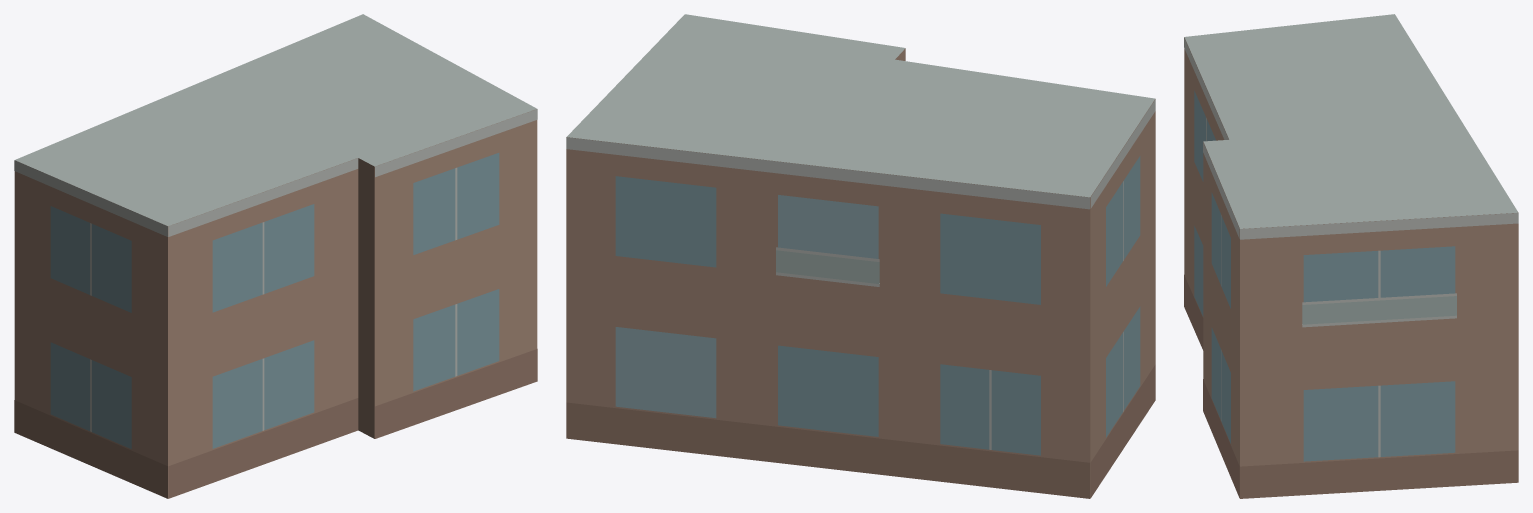
File: survey-upis-32506657.glb
3 views of the same model, side by side, from view 1: azimuth 30°, elevation 25°; view 2: azimuth 150°, elevation 25°; view 3: azimuth 270°, elevation 25° (orthographic). The views are drawn at different scales.
Parts seen in each view (by area): view 1: survey-upis-32506657.tmp; view 2: survey-upis-32506657.tmp; view 3: survey-upis-32506657.tmp.
Boxes of the visible parts, box(x1,y1,x2,y2) form: survey-upis-32506657.tmp: box(14, 14, 537, 498); survey-upis-32506657.tmp: box(566, 14, 1155, 498); survey-upis-32506657.tmp: box(1184, 14, 1518, 498).
Bounding box in the file's own units: 10.43 × 6.1 × 6.86.
